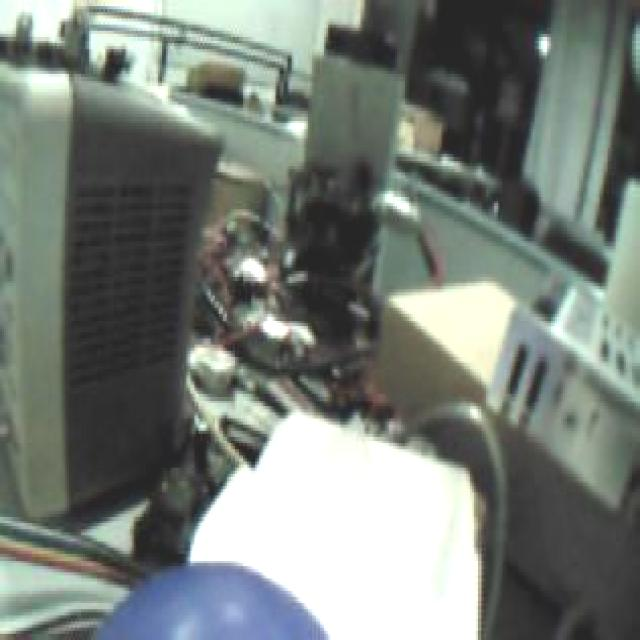BallPurple: (88, 565, 331, 640)
